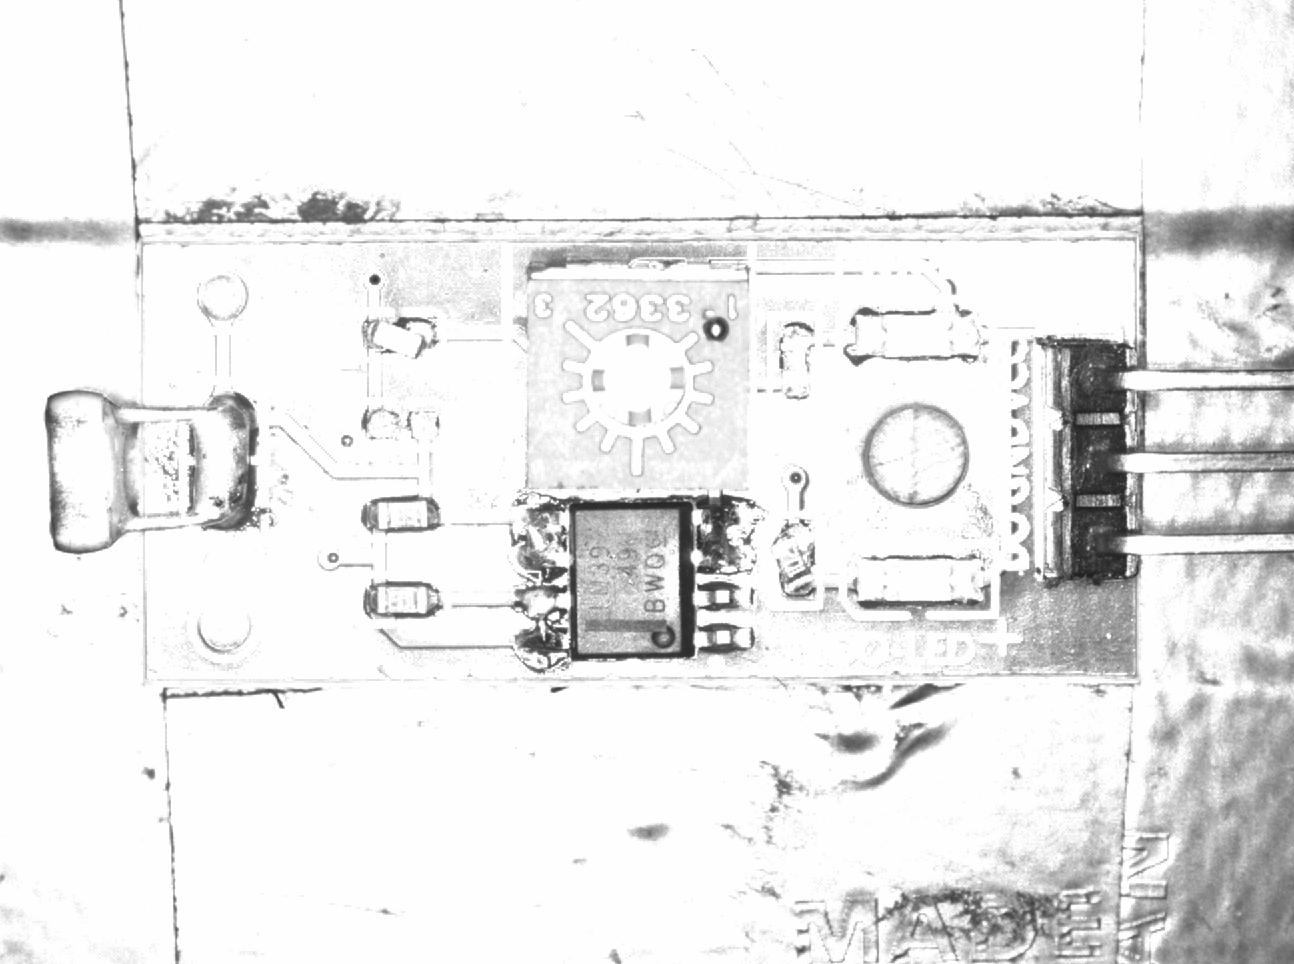bridge: (170, 383, 273, 543), (691, 491, 761, 578), (509, 501, 570, 581)
lifted: (770, 515, 824, 609), (353, 311, 444, 361)
miss: (351, 397, 454, 452), (769, 314, 821, 400)
ok: (351, 574, 453, 628), (357, 488, 442, 541)
